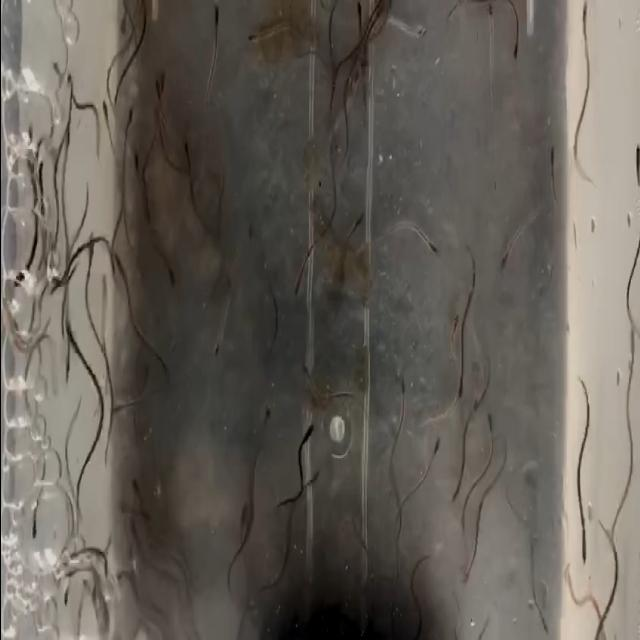active_glass_eel: (208, 318, 228, 391), (24, 500, 51, 551), (173, 125, 200, 175), (387, 372, 413, 410), (443, 478, 463, 522), (507, 30, 531, 66), (350, 200, 370, 242), (57, 562, 77, 604), (422, 430, 448, 462), (422, 231, 444, 267), (303, 408, 321, 452), (451, 562, 475, 594), (578, 520, 593, 567), (164, 241, 180, 285), (482, 407, 500, 445), (247, 14, 263, 56), (152, 70, 166, 117), (260, 388, 278, 424), (494, 233, 508, 279), (124, 90, 138, 134), (101, 96, 115, 137), (449, 301, 461, 348), (207, 0, 225, 31), (410, 18, 428, 47), (454, 358, 466, 400), (134, 142, 148, 178), (349, 0, 364, 32), (305, 466, 323, 490), (545, 138, 561, 162), (130, 475, 142, 503)
